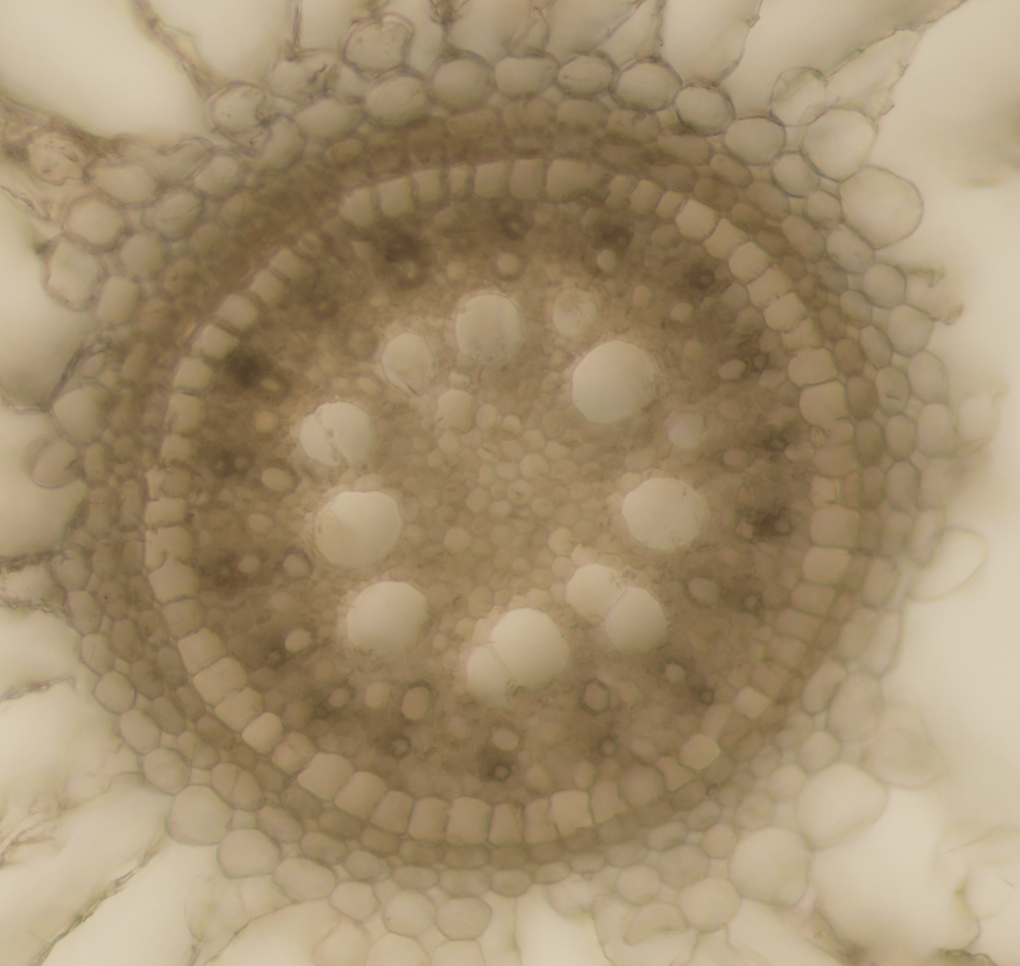lm: (461, 606, 573, 705), (563, 561, 669, 654), (569, 338, 662, 426), (312, 489, 403, 571), (623, 476, 709, 549), (346, 579, 429, 654), (297, 400, 379, 468), (453, 290, 524, 362), (381, 330, 437, 395)
